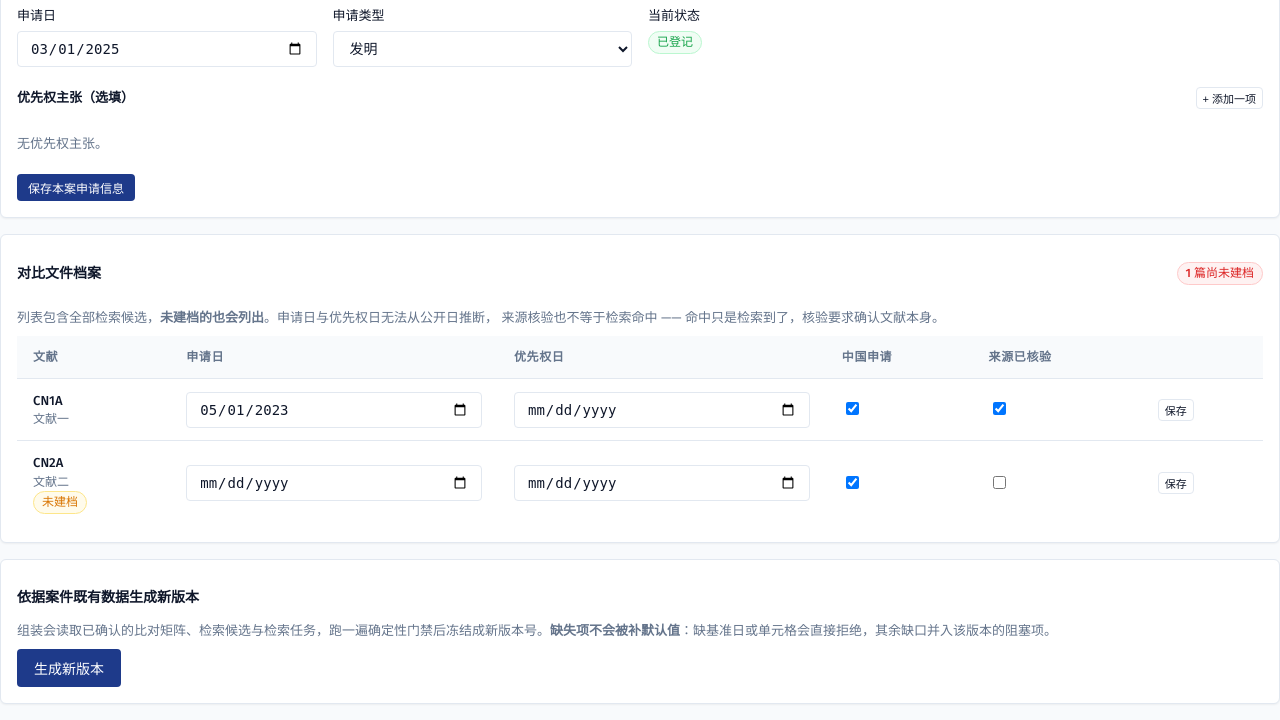
Test: Pre-assessment input panel › shows source gaps ahead of any success signal after assembling
(page scrolled)
Click the button "生成新版本": coordinates (69, 668) [17,649,121,687]
(page scrolled)
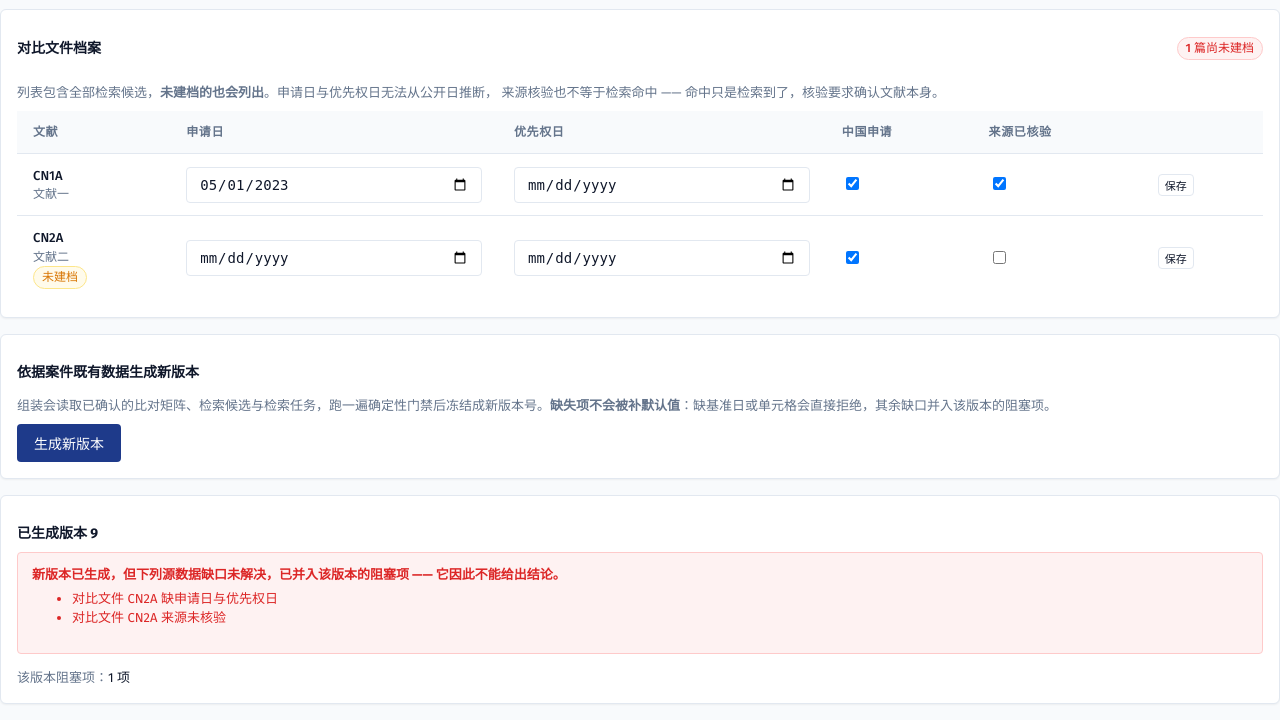
Now the text "新版本已生成，但下列源数据缺口未解决，已并入该版本的阻塞项 —— 它因此不能给出结论。" is shown, box [32,567,566,582]
Now the list item "对比文件 CN2A 缺申请日与优先权日" is shown, box [72,591,278,606]
Now the list item "对比文件 CN2A 来源未核验" is shown, box [72,610,226,625]
